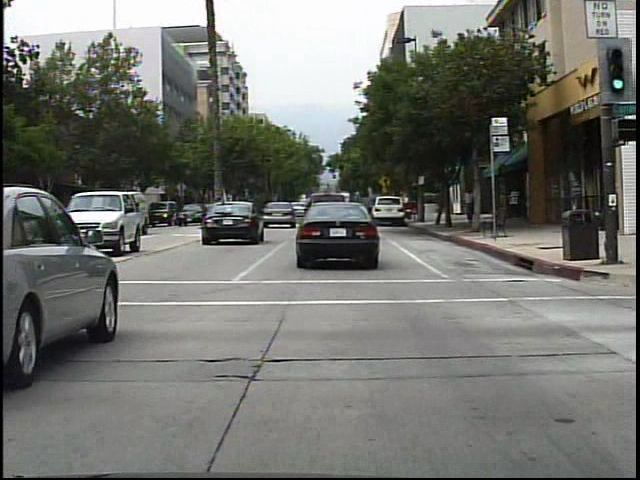person: (460, 187, 481, 229)
